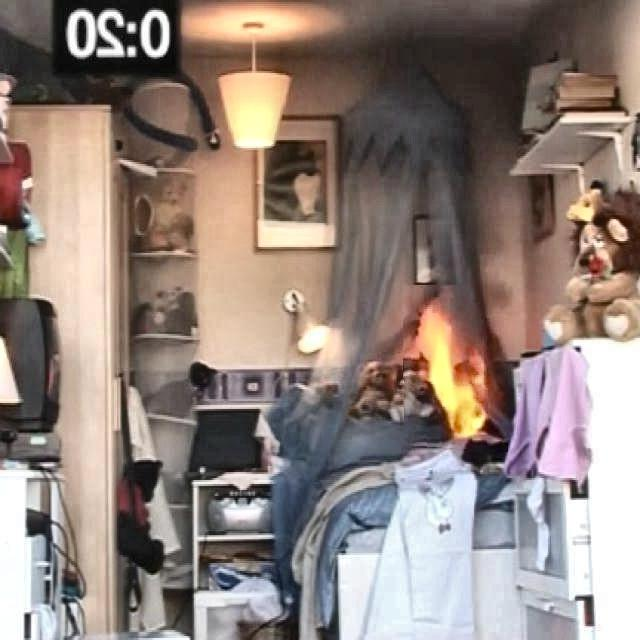fire: (390, 301, 515, 452)
